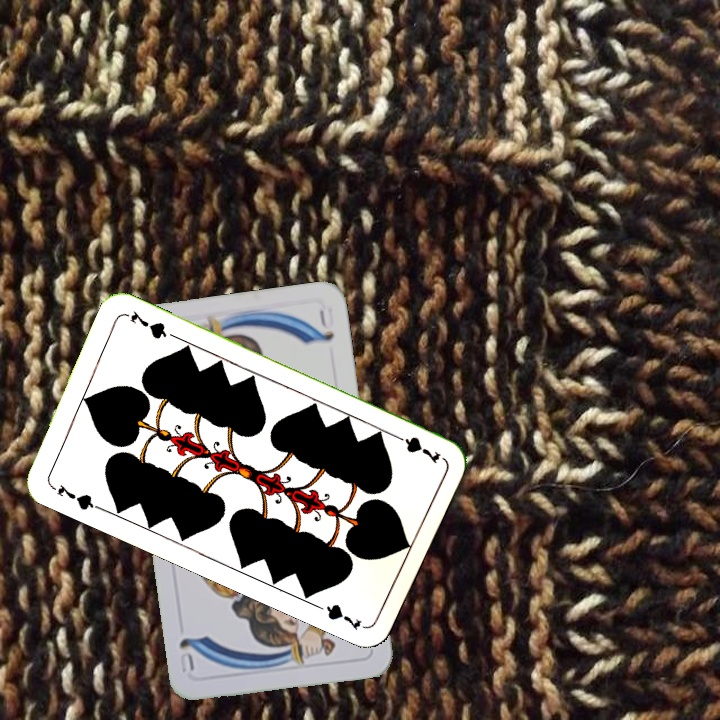G7: (387, 429, 444, 467), (46, 480, 102, 513)
